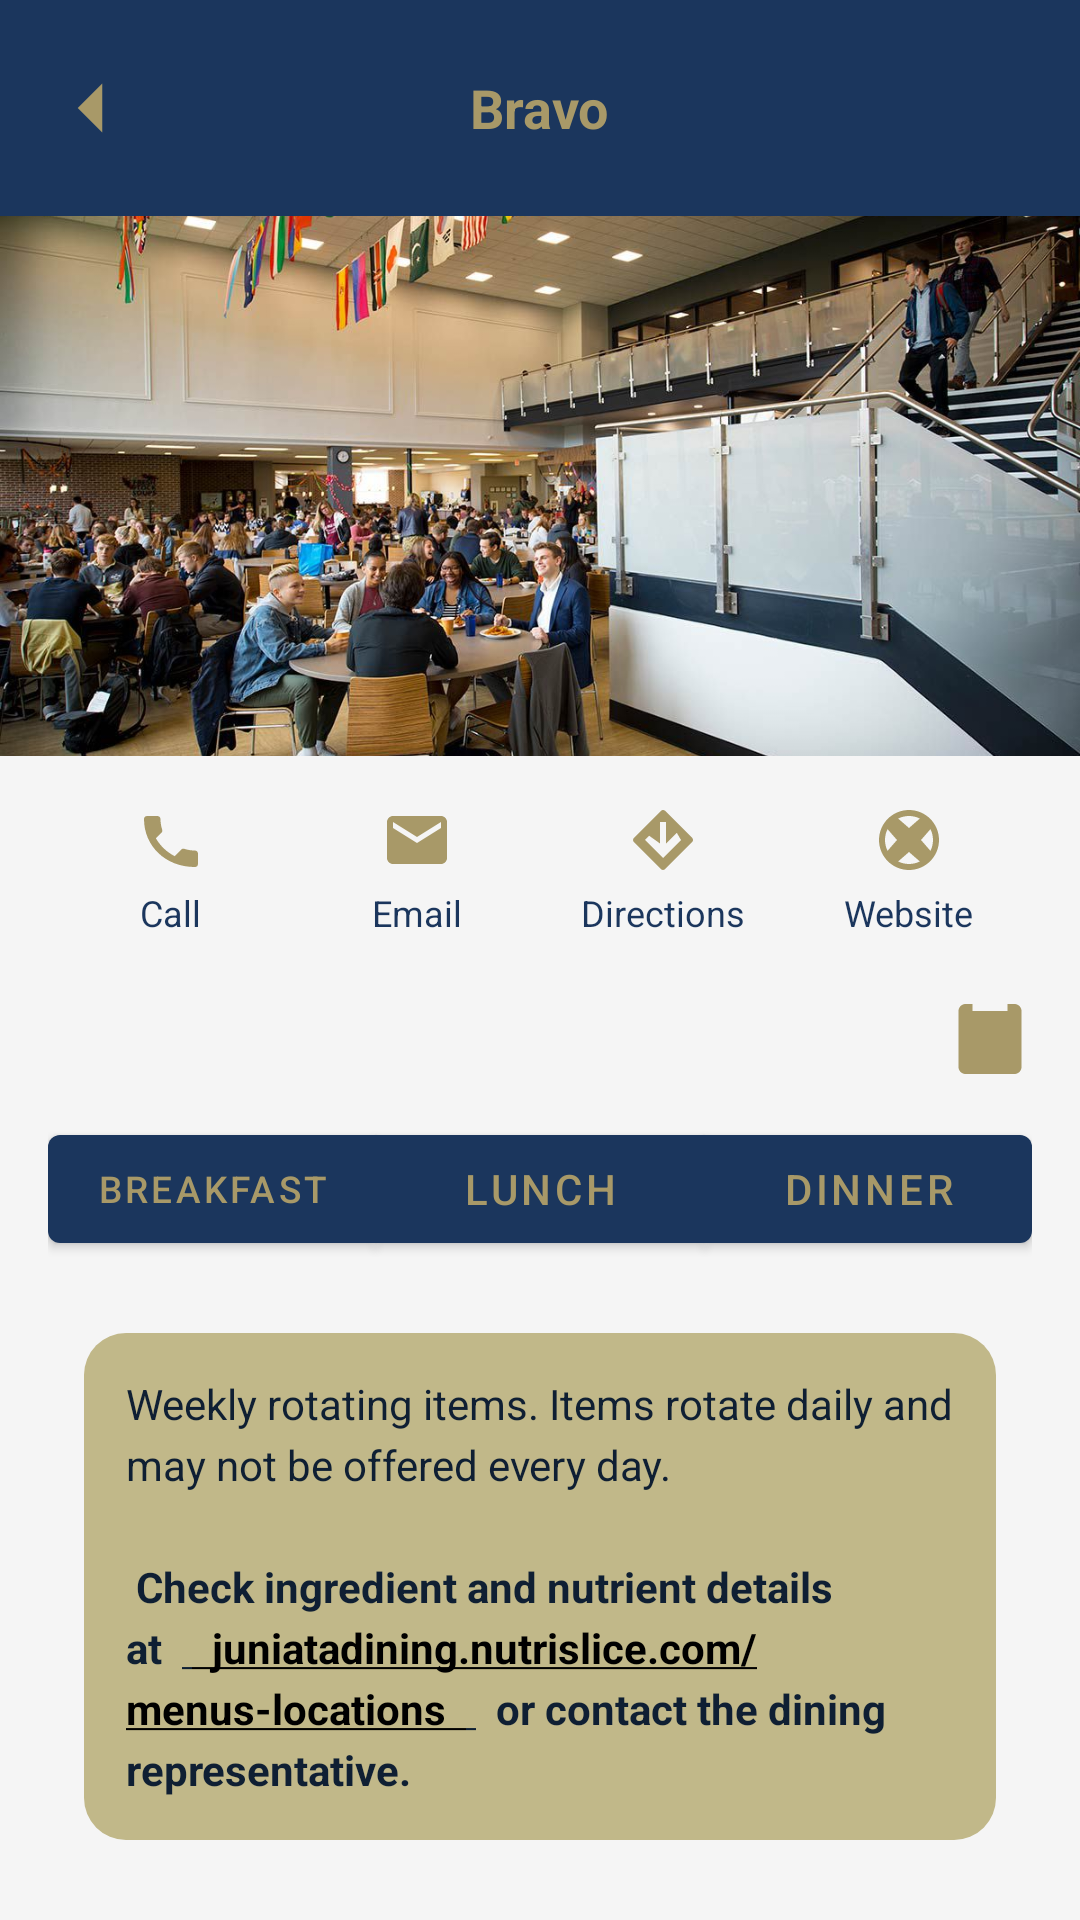

Icons on this 1080 x 1920 Android screen, each with its box as (x1, y1, x2, y2):
back: (78, 84, 103, 132)
